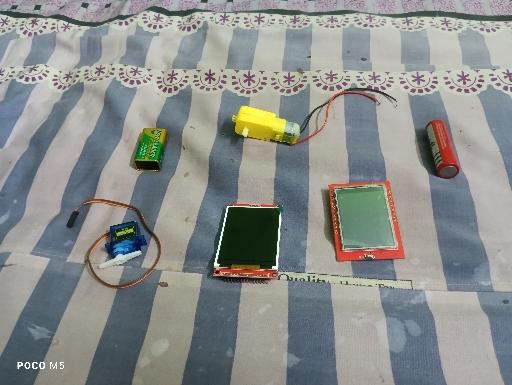Battery: (425, 120, 460, 179), (134, 127, 168, 171)
Display: (327, 181, 404, 263), (212, 202, 283, 285)
Motor: (231, 105, 301, 147), (97, 219, 148, 272)
